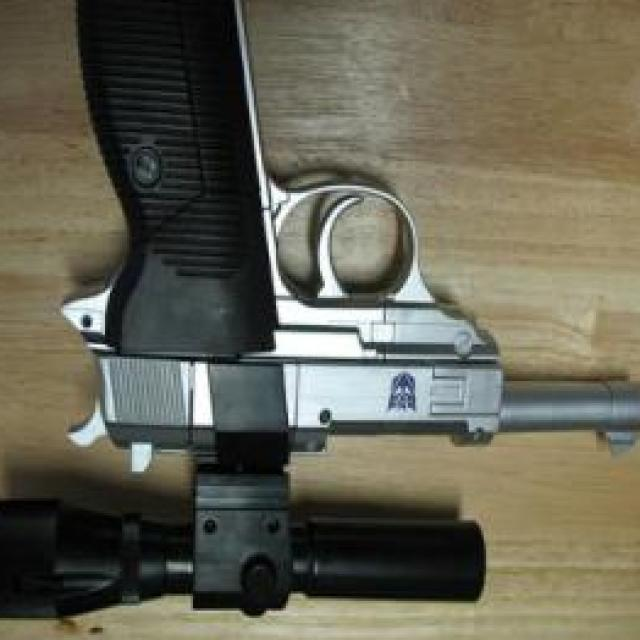pistol: (66, 0, 640, 479)
